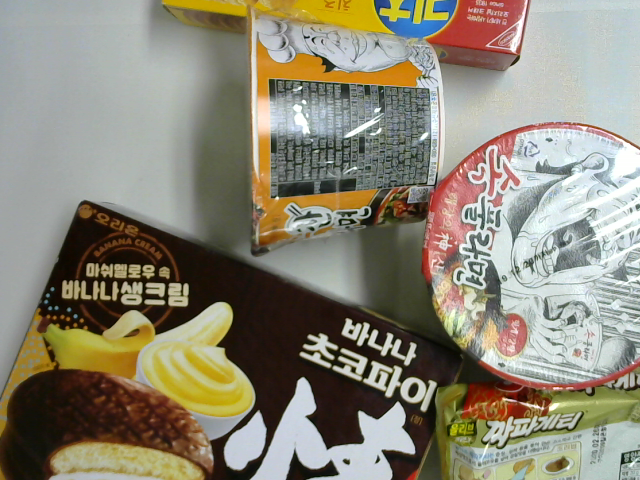Choco_Pie_Banana: (1, 199, 466, 480)
Hejangchan: (246, 1, 450, 259)
Hejangpul: (416, 117, 640, 392)
Olive_Chapaghetti: (434, 356, 640, 479)
Ritz_Sand_Cracker: (161, 1, 532, 76)
